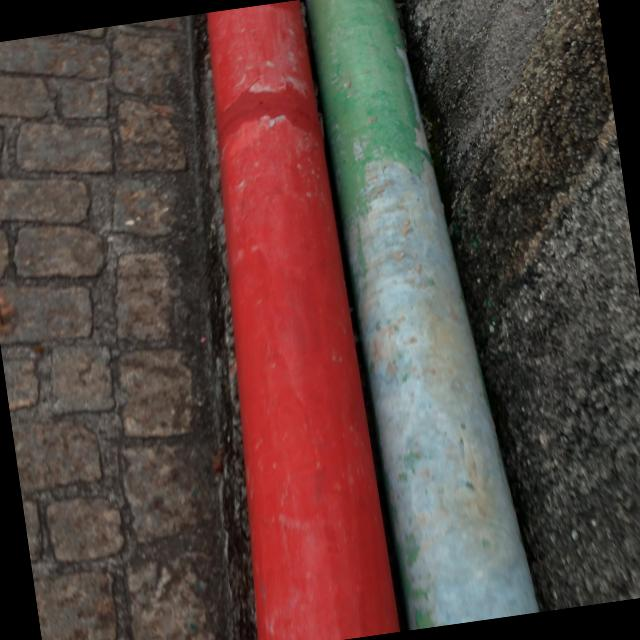gas: (316, 0, 569, 631), (163, 0, 407, 640)
